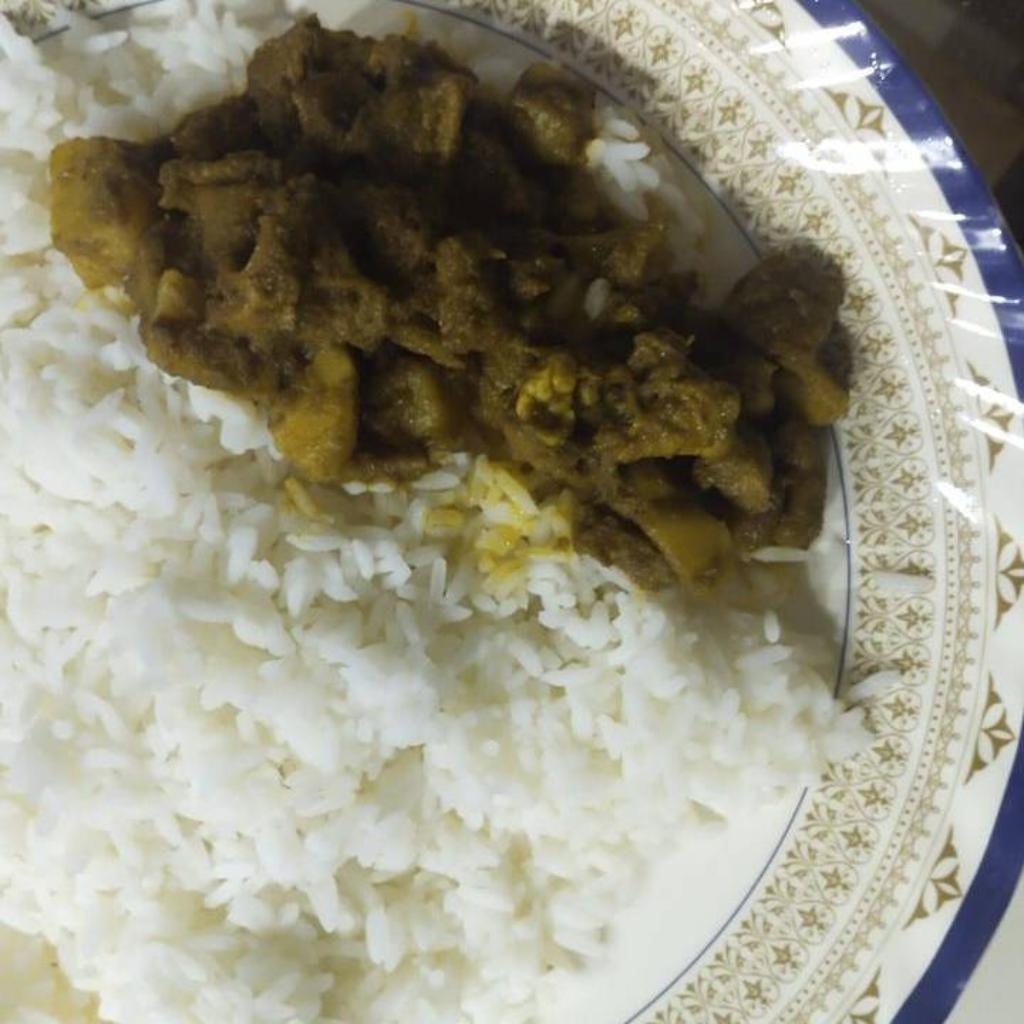beef: (50, 20, 860, 588)
rice: (1, 8, 905, 1023)
